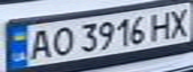1: (115, 16, 133, 47)
3: (75, 20, 100, 53)
6: (127, 12, 151, 45)
9: (93, 18, 118, 52)
A: (21, 26, 54, 61)
H: (148, 8, 175, 42)
O: (48, 24, 75, 57)
X: (163, 6, 193, 38)
